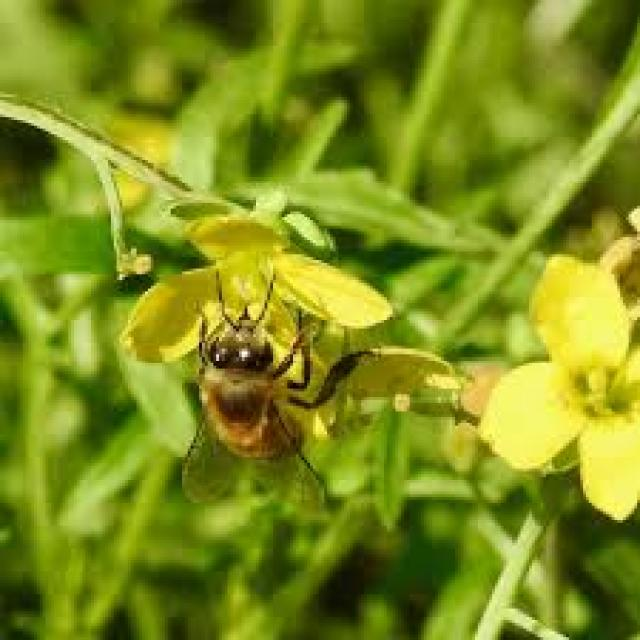Bees: (174, 270, 371, 517)
